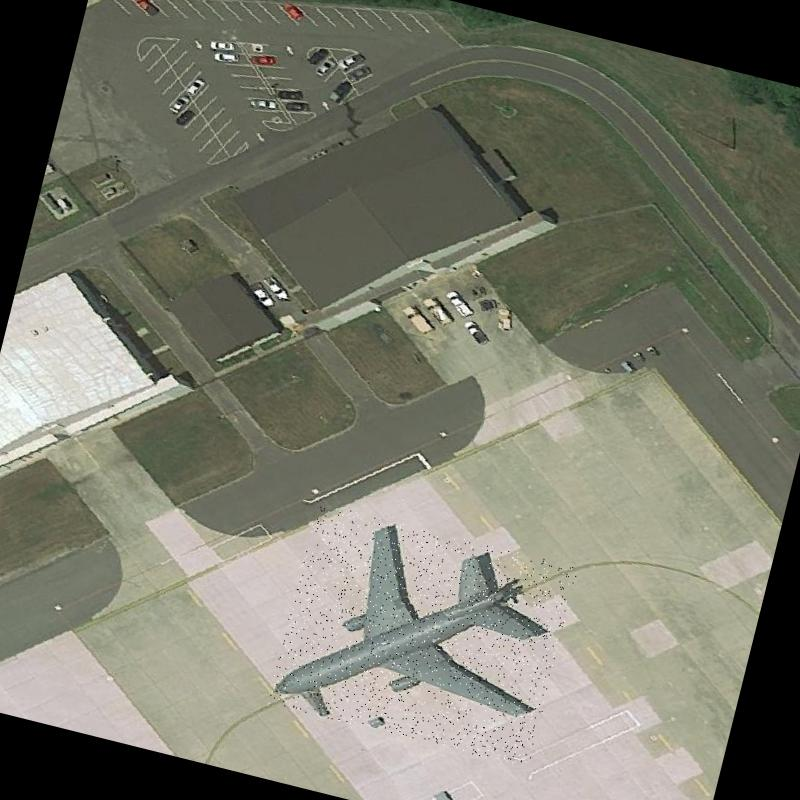A18: (267, 502, 578, 768)
